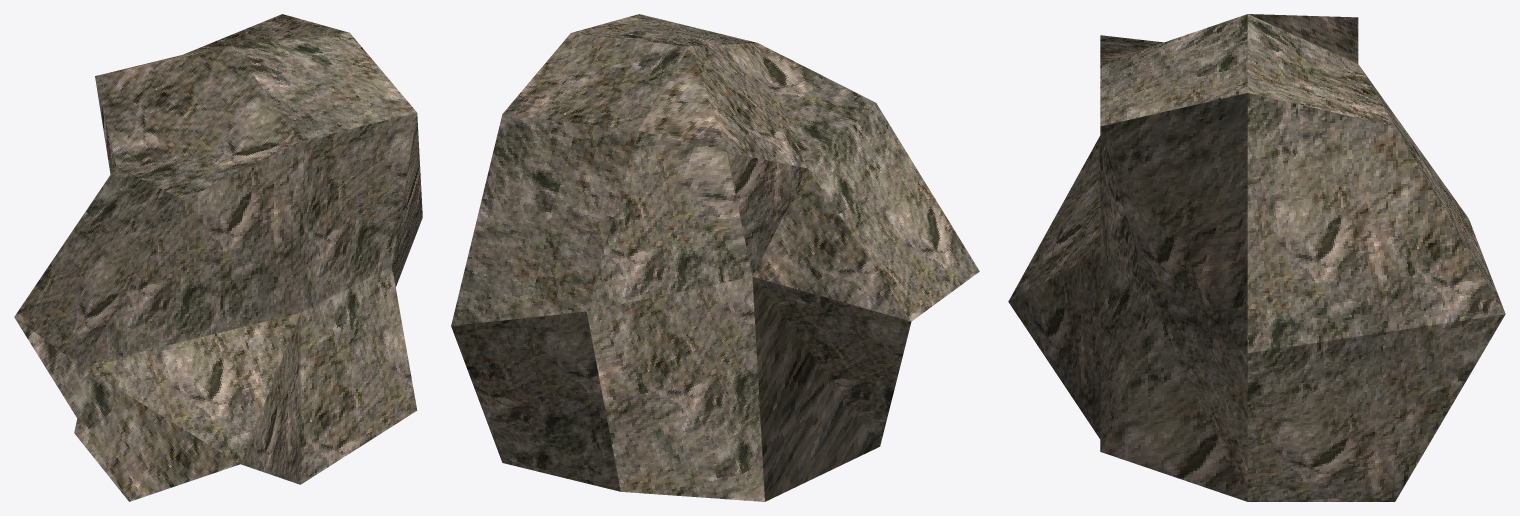
Rendered from rock_2.gltf.
3 renders of one model, left to right at view 1: azimuth 30°, elevation 25°; view 2: azimuth 150°, elevation 25°; view 3: azimuth 270°, elevation 25°, orthographic. The views are drawn at different scales.
Visible parts, largest first — view 1: mesh; view 2: mesh; view 3: mesh.
Boxes of the visible parts, x1,y1,x2,y2 form: mesh: (14,14,422,501); mesh: (451,14,979,501); mesh: (1008,14,1505,501).
Size of the model in its own units: 1.75 by 1.59 by 1.69.
1 material, 1 textured.
